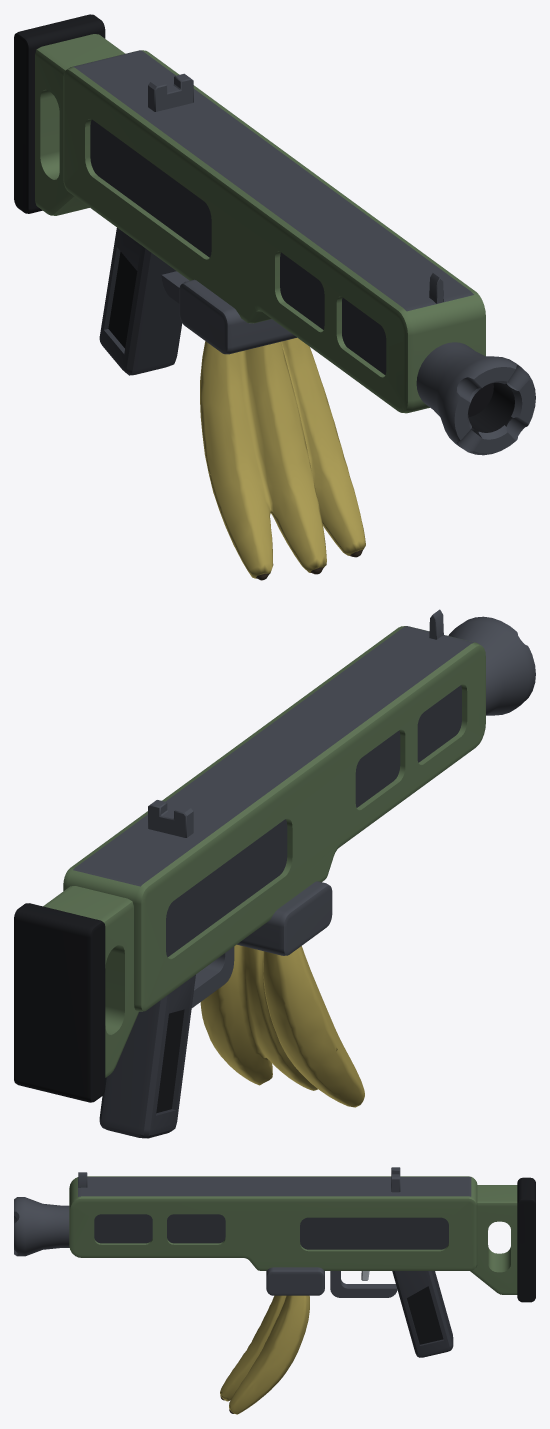
File: w_banana.glb
3 views of the same model, one above another, from view 1: azimuth 30°, elevation 25°; view 2: azimuth 150°, elevation 25°; view 3: azimuth 270°, elevation 25° (orthographic). The views are drawn at different scales.
Parts seen in each view (by area): view 1: body_wzA__body__p5b7151, mag_wzN__nana__pae9e52, body_wzB__frame__p444851, body_wzN__dark__p353840, muzzle_wzB__frame__p444851, grip_wzB__dark__p353840, stock_wzB__body__p5b7151, stock_wzN__black__p16171b, mag_wzB__frame__p444851, muzzle_wzN__black__p16171b, sight_wzN__frame__p444851, grip_wzN__black__p16171b; view 2: body_wzA__body__p5b7151, body_wzB__frame__p444851, stock_wzN__black__p16171b, mag_wzN__nana__pae9e52, body_wzN__dark__p353840, grip_wzB__dark__p353840, stock_wzB__body__p5b7151, muzzle_wzB__frame__p444851, mag_wzB__frame__p444851, sight_wzN__frame__p444851, grip_wzN__black__p16171b, guard_wzB__frame__p444851; view 3: body_wzA__body__p5b7151, body_wzN__dark__p353840, body_wzB__frame__p444851, mag_wzN__nana__pae9e52, stock_wzB__body__p5b7151, muzzle_wzB__frame__p444851, grip_wzB__dark__p353840, stock_wzN__black__p16171b, mag_wzB__frame__p444851, grip_wzN__black__p16171b, guard_wzB__frame__p444851, sight_wzN__frame__p444851.
Part boxes in pixels (box(x1,y1,x2,y2)): body_wzA__body__p5b7151: box(63, 50, 485, 413); mag_wzN__nana__pae9e52: box(200, 337, 365, 578); body_wzB__frame__p444851: box(73, 50, 473, 311); body_wzN__dark__p353840: box(90, 119, 386, 374); muzzle_wzB__frame__p444851: box(416, 342, 535, 455); grip_wzB__dark__p353840: box(99, 228, 182, 375); stock_wzB__body__p5b7151: box(35, 34, 125, 215); stock_wzN__black__p16171b: box(14, 14, 105, 213); mag_wzB__frame__p444851: box(179, 279, 296, 354); muzzle_wzN__black__p16171b: box(468, 382, 514, 433); sight_wzN__frame__p444851: box(148, 73, 443, 303); grip_wzN__black__p16171b: box(108, 251, 137, 348); body_wzA__body__p5b7151: box(63, 626, 485, 1011); body_wzB__frame__p444851: box(73, 626, 473, 886); stock_wzN__black__p16171b: box(14, 903, 105, 1102); mag_wzN__nana__pae9e52: box(200, 944, 364, 1107); body_wzN__dark__p353840: box(166, 685, 461, 957); grip_wzB__dark__p353840: box(99, 974, 195, 1138); stock_wzB__body__p5b7151: box(43, 886, 138, 1077); muzzle_wzB__frame__p444851: box(448, 616, 535, 715); mag_wzB__frame__p444851: box(237, 881, 332, 955); sight_wzN__frame__p444851: box(148, 609, 443, 837); grip_wzN__black__p16171b: box(156, 1009, 184, 1113); guard_wzB__frame__p444851: box(191, 946, 234, 1007); body_wzA__body__p5b7151: box(69, 1176, 477, 1270); body_wzN__dark__p353840: box(94, 1214, 448, 1249); body_wzB__frame__p444851: box(78, 1177, 471, 1196); mag_wzN__nana__pae9e52: box(220, 1295, 309, 1414); stock_wzB__body__p5b7151: box(470, 1185, 517, 1294); muzzle_wzB__frame__p444851: box(14, 1197, 69, 1256); grip_wzB__dark__p353840: box(392, 1271, 453, 1357); stock_wzN__black__p16171b: box(517, 1177, 535, 1302); mag_wzB__frame__p444851: box(266, 1267, 324, 1295); grip_wzN__black__p16171b: box(407, 1286, 443, 1344); guard_wzB__frame__p444851: box(330, 1271, 397, 1297); sight_wzN__frame__p444851: box(78, 1167, 400, 1192).
Bounding box in the file's own units: 0.097 × 0.2844 × 0.5885.
